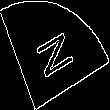N_SW: (31, 25, 79, 85)
